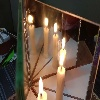fire: (39, 76, 44, 95)
